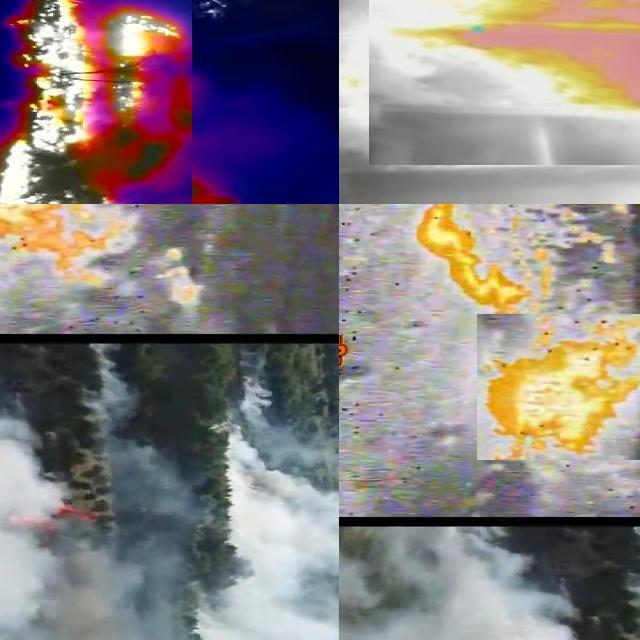fire: (370, 1, 640, 165), (1, 1, 193, 205), (416, 205, 634, 315), (478, 314, 640, 460), (160, 248, 206, 308), (53, 503, 97, 519)
